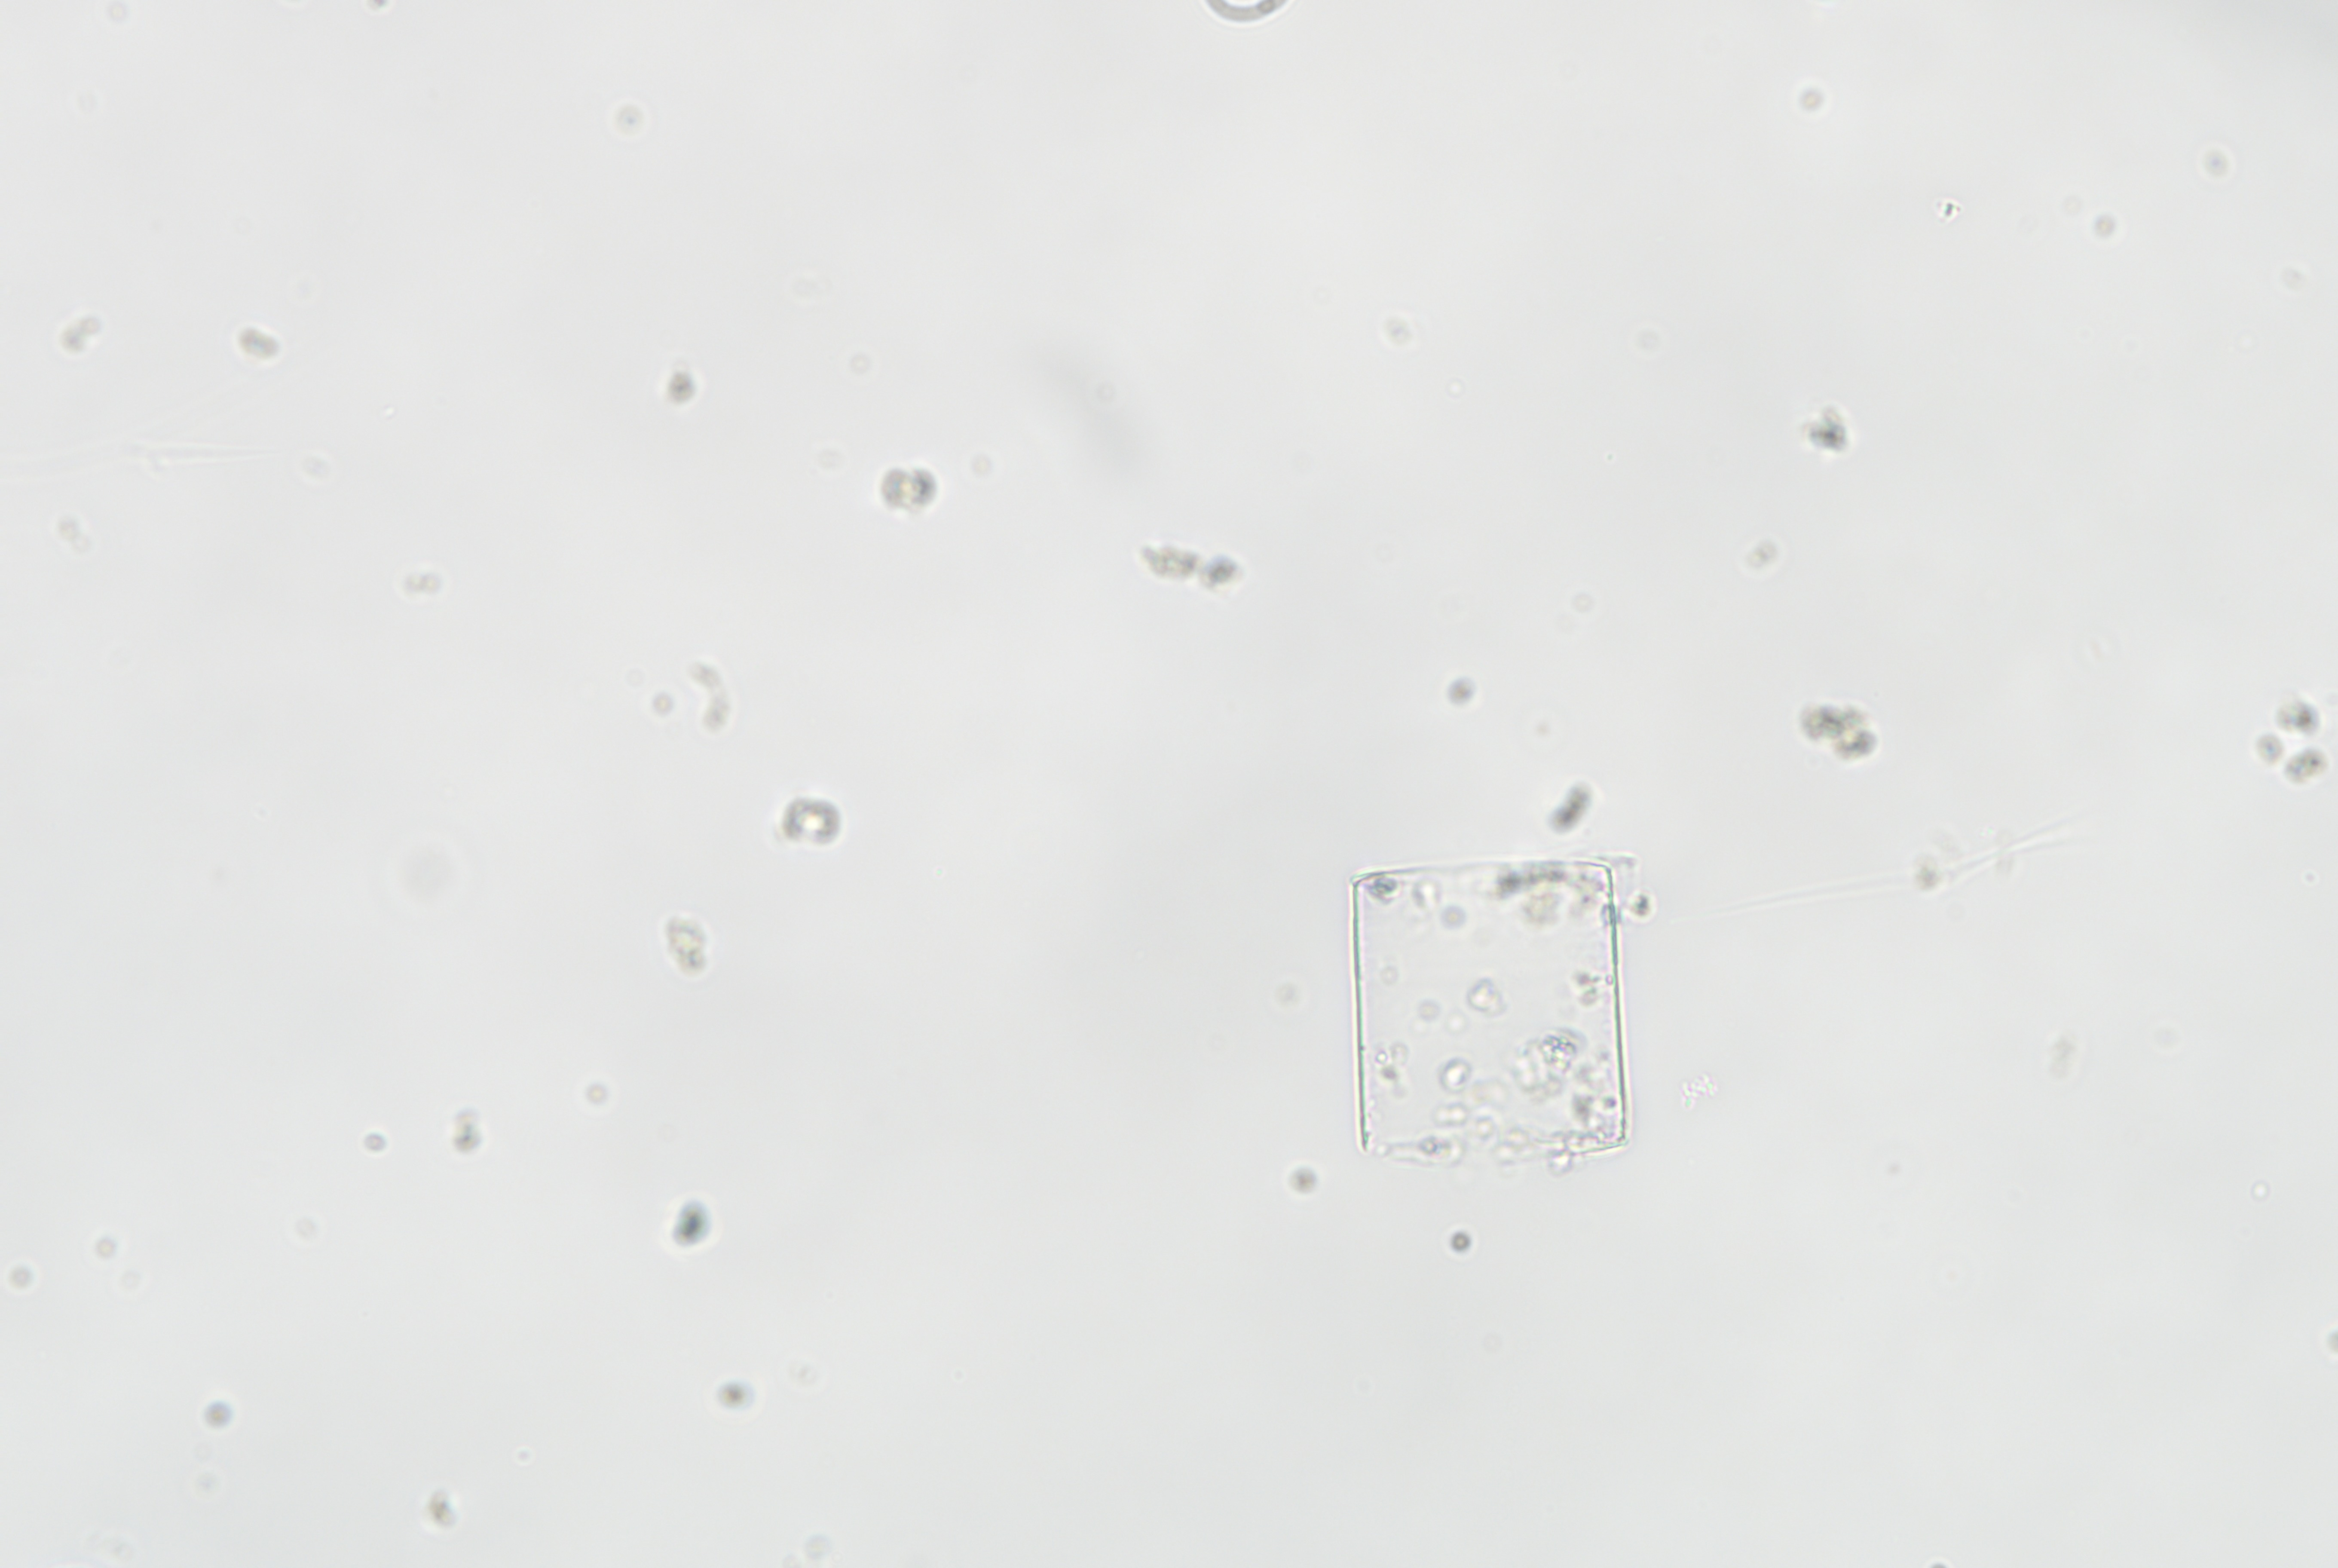guinardia flaccida: (1279, 819, 1701, 1214)
